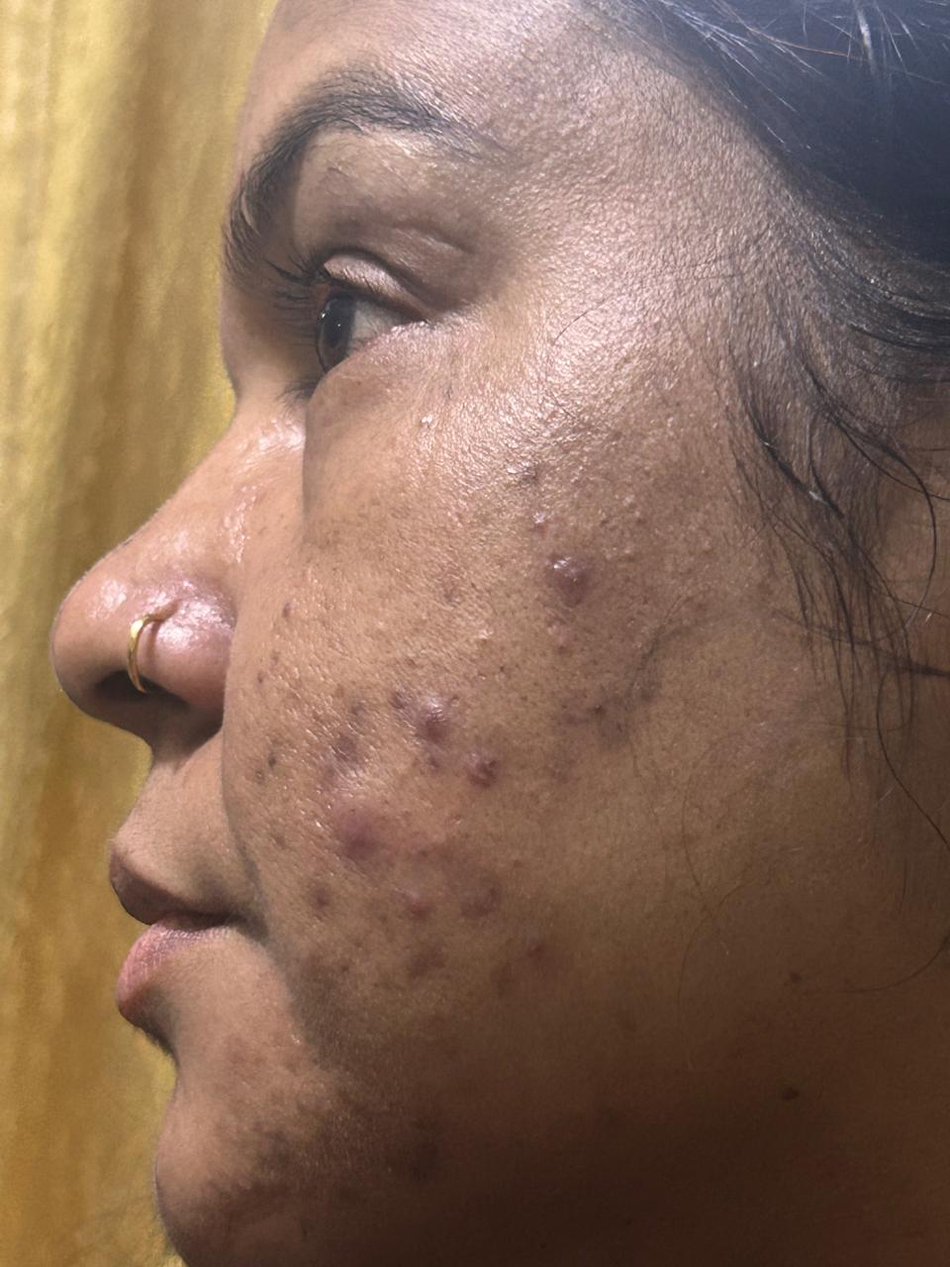closed_comedone: (604, 541, 647, 572), (519, 503, 553, 535), (697, 535, 725, 559)
nodule: (318, 801, 379, 864), (413, 698, 460, 745)
open_comedone: (627, 507, 652, 530)
papule: (396, 887, 440, 935)
